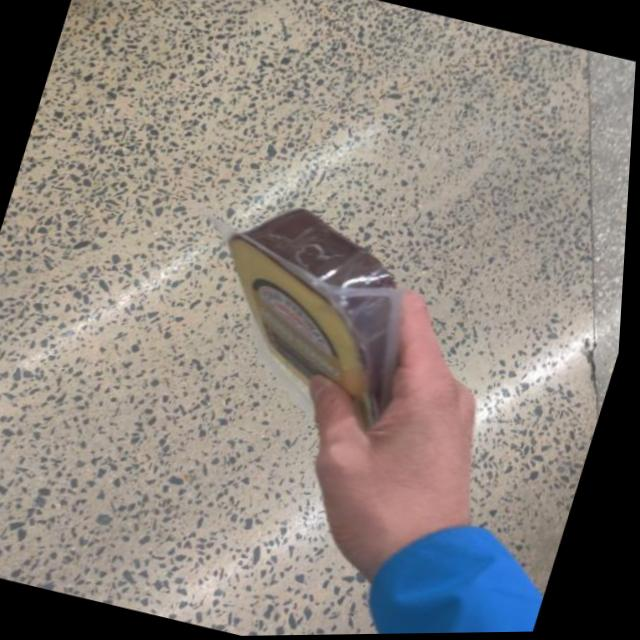Cheese: (186, 188, 425, 419)
